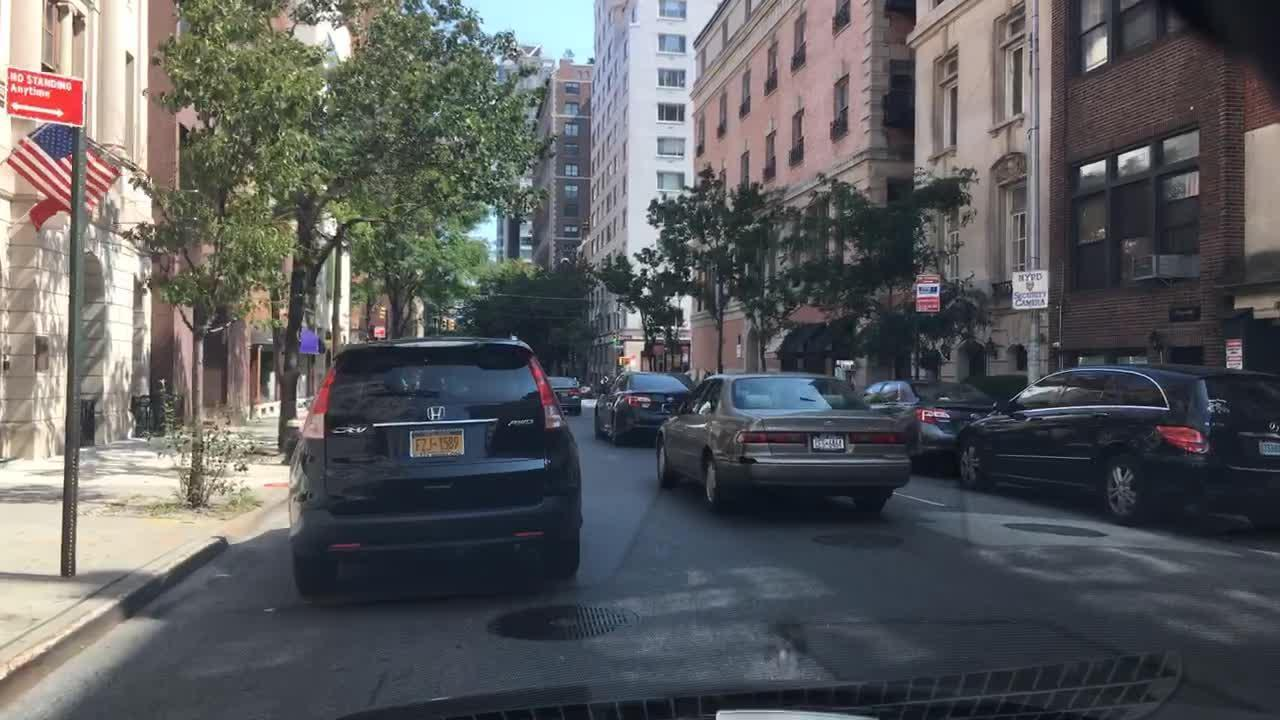Honda: (419, 393, 455, 428)
Mercedes: (1263, 416, 1280, 440)
